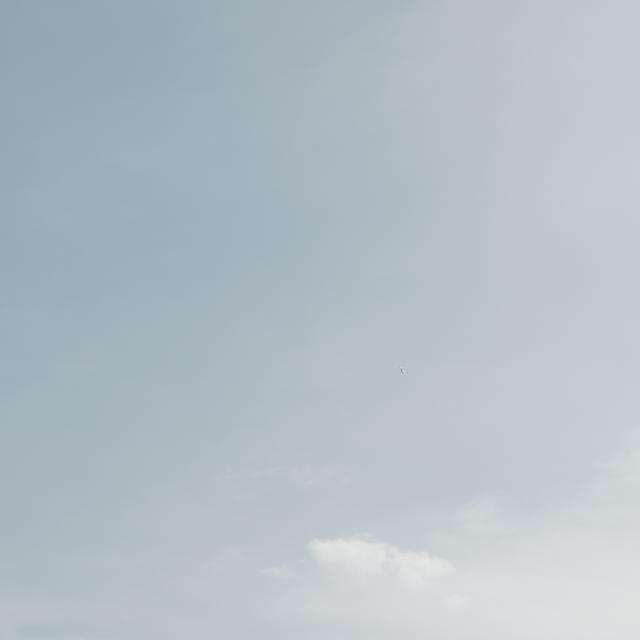Airaplan: (399, 366, 405, 376)
